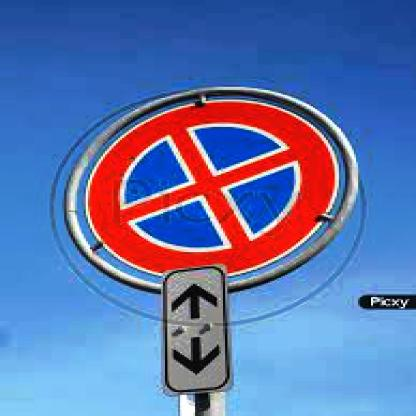No stopping: (53, 80, 372, 300)
